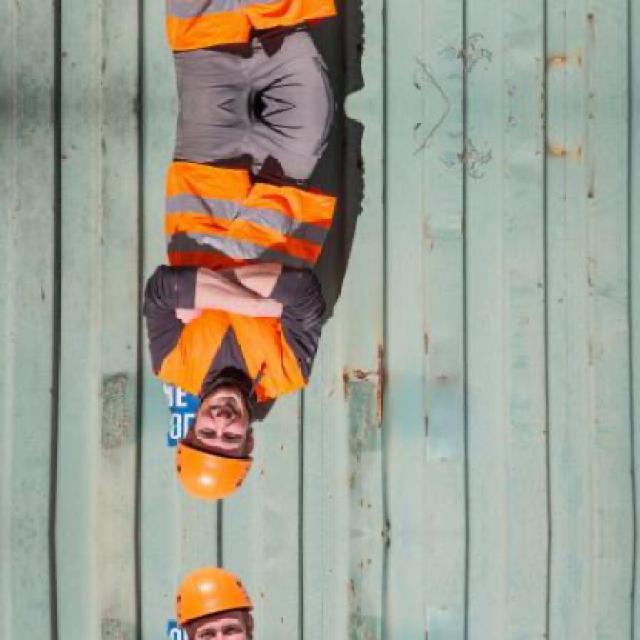con casco: (127, 389, 321, 524)
